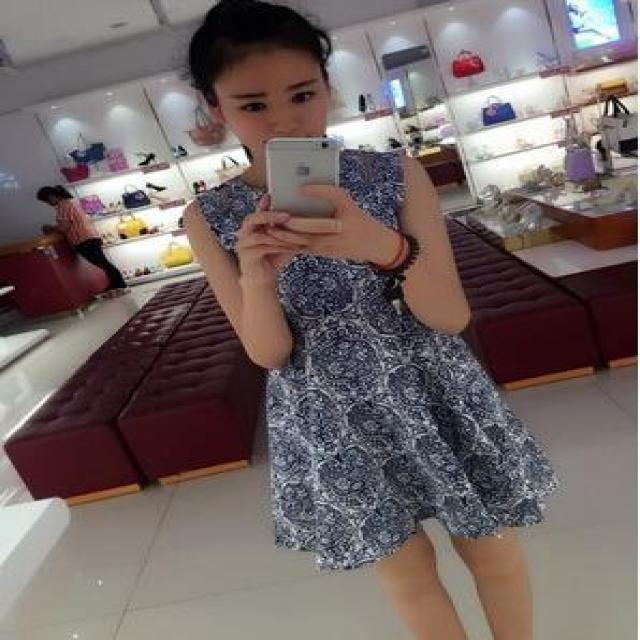vest dress: (195, 151, 554, 547)
